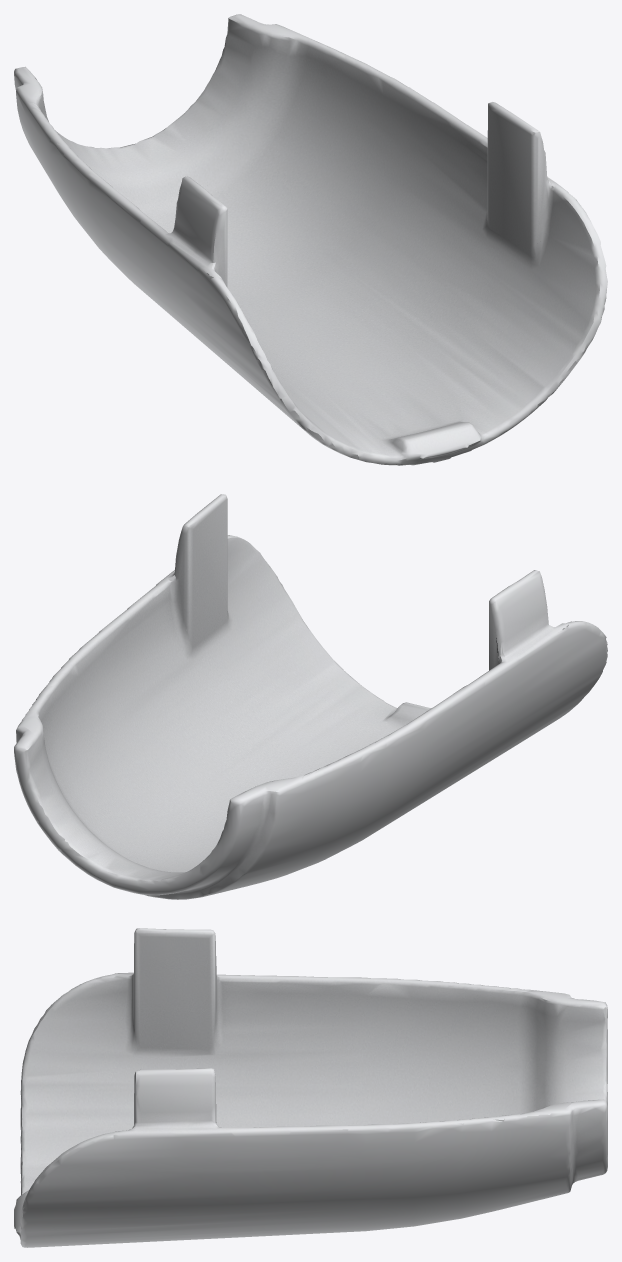
File: right_forarm_cover.obj
The picture shows the model from 3 angles, top to bottom: view 1: azimuth 30°, elevation 25°; view 2: azimuth 150°, elevation 25°; view 3: azimuth 270°, elevation 25°; orthographic projection. The views are drawn at different scales.
Visible parts, largest first — view 1: right_forarm_cover; view 2: right_forarm_cover; view 3: right_forarm_cover.
Boxes of the visible parts, box(x1,y1,x2,y2) form: right_forarm_cover: box(14, 14, 607, 465); right_forarm_cover: box(14, 494, 607, 899); right_forarm_cover: box(14, 928, 607, 1247).
Size of the model in its own units: 0.0705 by 0.0465 by 0.1087.
1 material, 1 textured.
